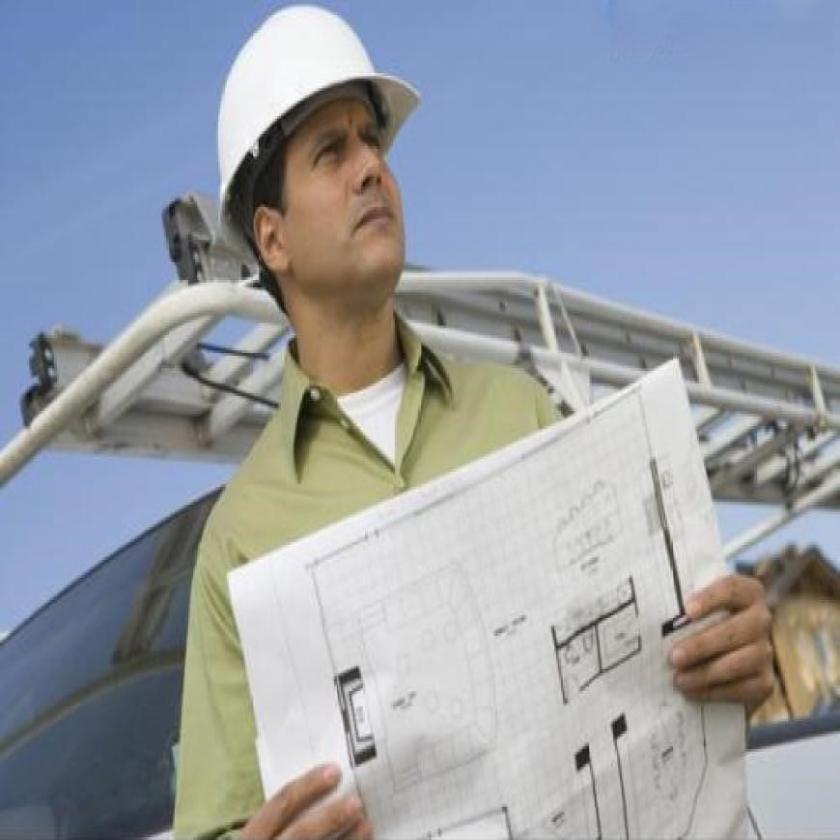Con_casco: (215, 0, 434, 322)
